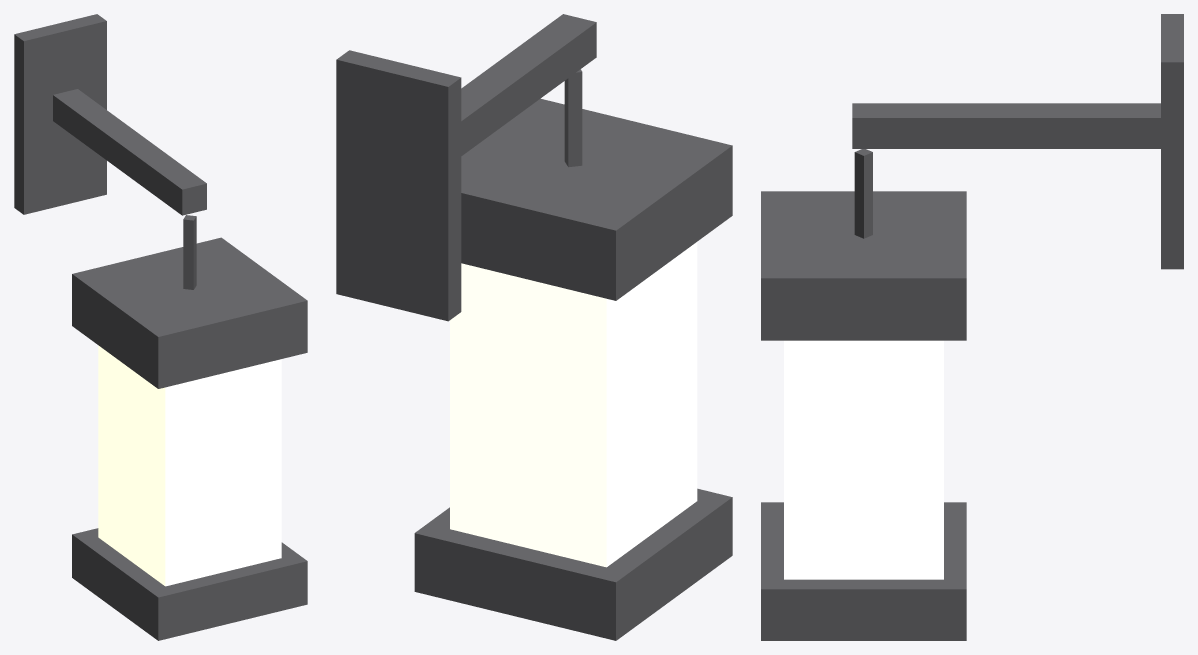
The model's file is prop_lantern.glb.
3 renders of one model, left to right at view 1: azimuth 30°, elevation 25°; view 2: azimuth 150°, elevation 25°; view 3: azimuth 270°, elevation 25°, orthographic. The views are drawn at different scales.
Visible parts, largest first — view 1: Wall plate, Glass; view 2: Wall plate, Glass; view 3: Wall plate, Glass.
Part boxes in pixels (x1=…): Wall plate: x1=14, y1=14, x2=307, y2=640; Glass: x1=98, y1=345, x2=281, y2=586; Wall plate: x1=336, y1=14, x2=732, y2=640; Glass: x1=450, y1=242, x2=697, y2=567; Wall plate: x1=761, y1=14, x2=1183, y2=640; Glass: x1=784, y1=340, x2=943, y2=579.
Size of the model in its own units: 0.18 by 0.54 by 0.37.
